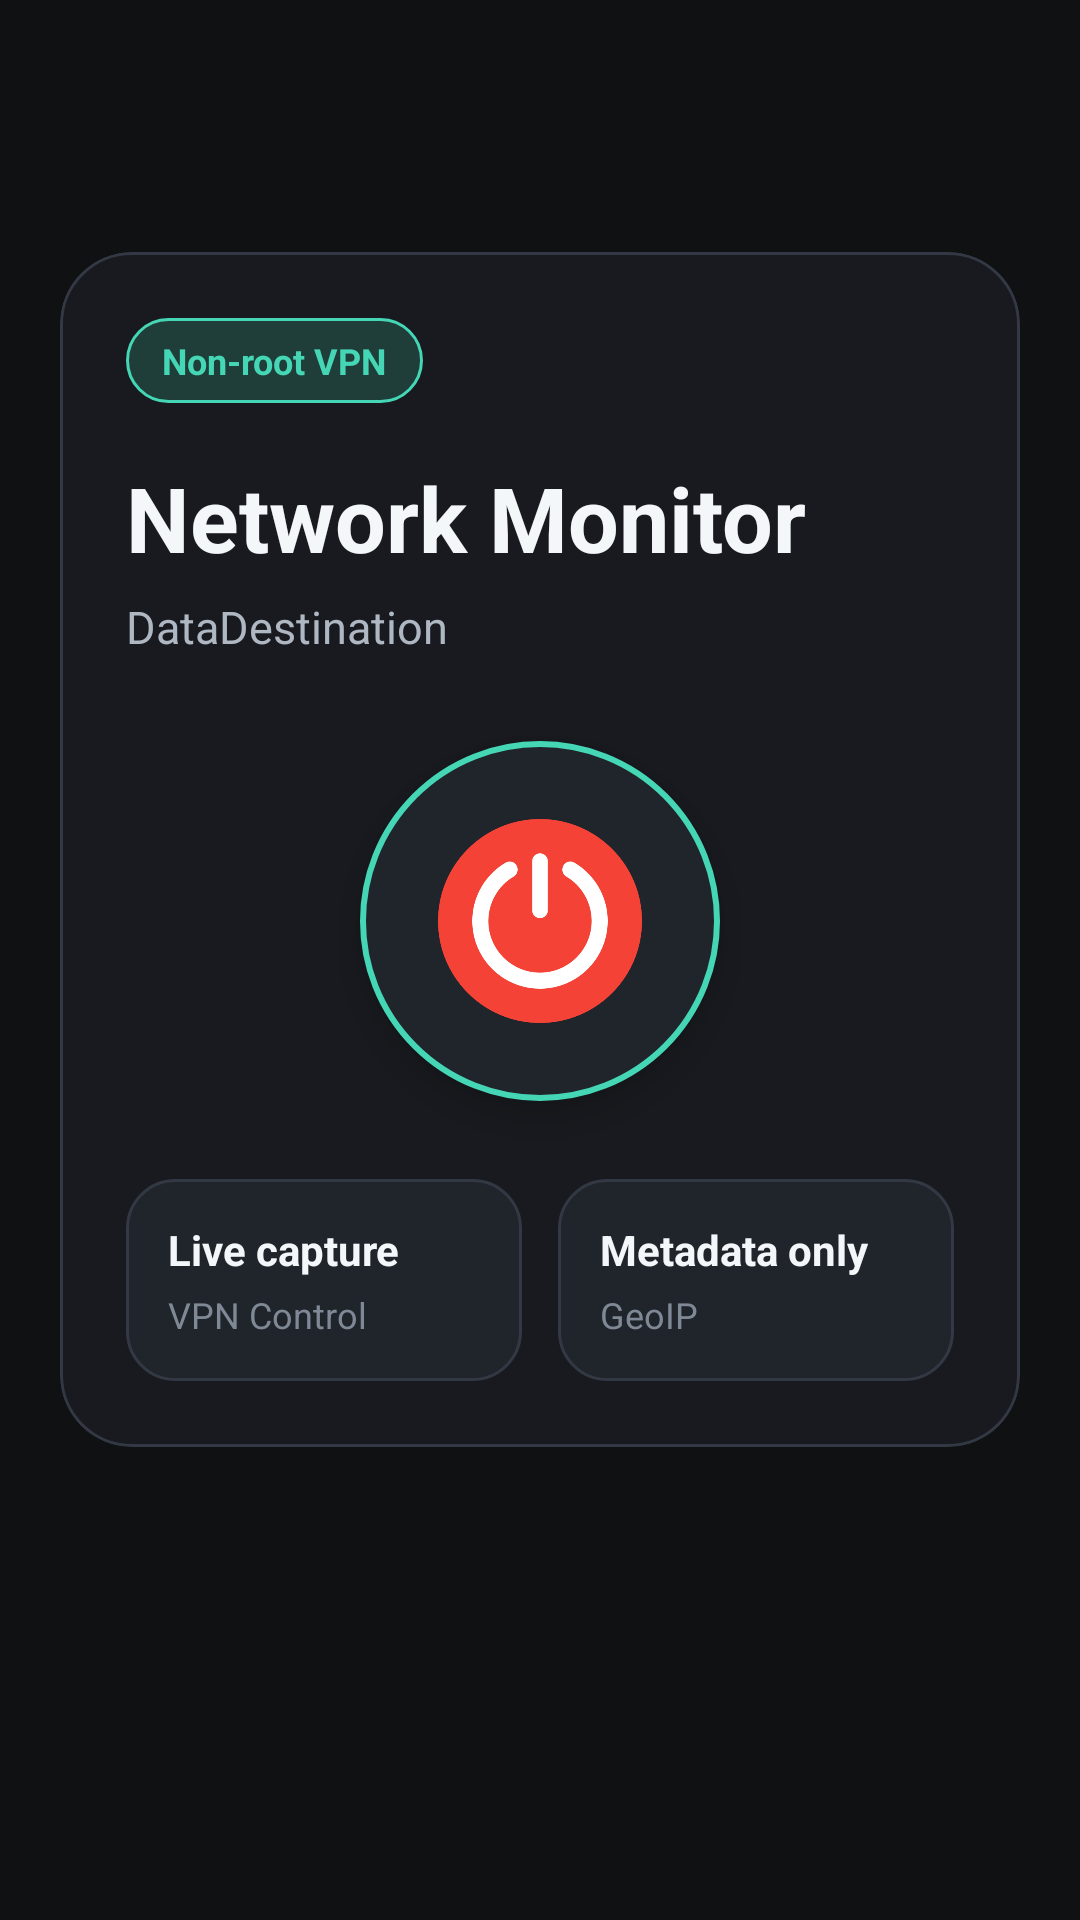

Icon bounding boxes for this 1080px×1920px phone screenshot, format {"left": x1, "top": y1, "right": x2, "bottom": y2}:
toggle: {"left": 360, "top": 741, "right": 720, "bottom": 1101}
